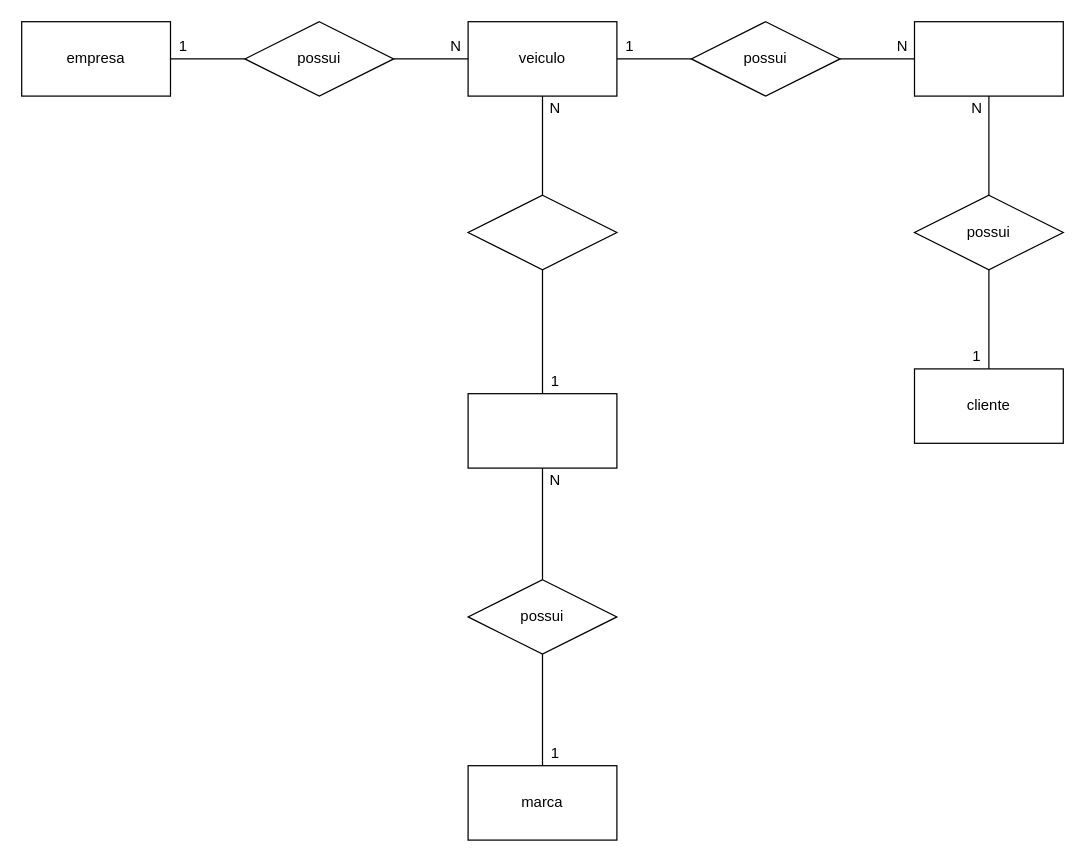
The diagram is 1085 pixels wide and 862 high, and some of its shapes have lost their labels. The centre of each missing label's shape, as x and y in pixels:
aluguel: the point at 988,58
modelo: the point at 542,430
Relationship: the point at 542,232
